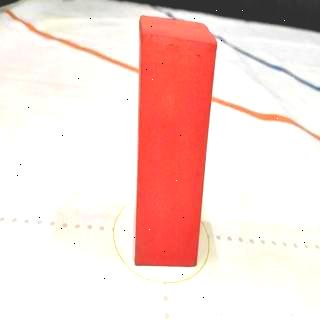redbox: (136, 14, 218, 268)
